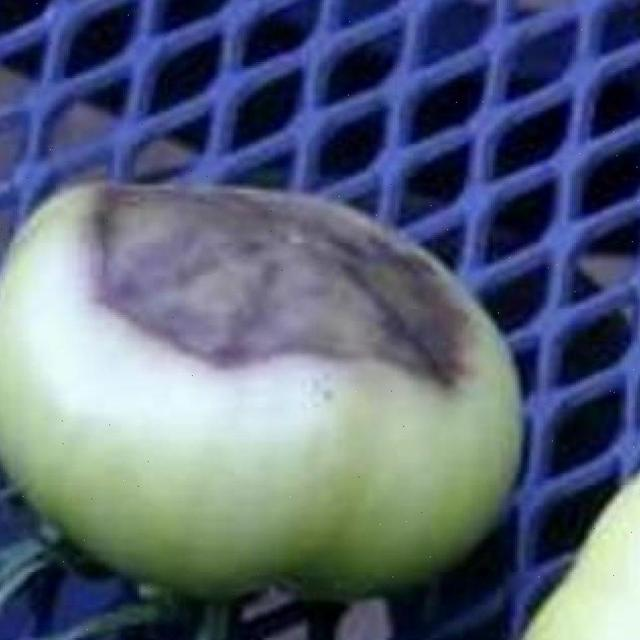Blossom End Rot Fruit: (58, 122, 313, 258)
